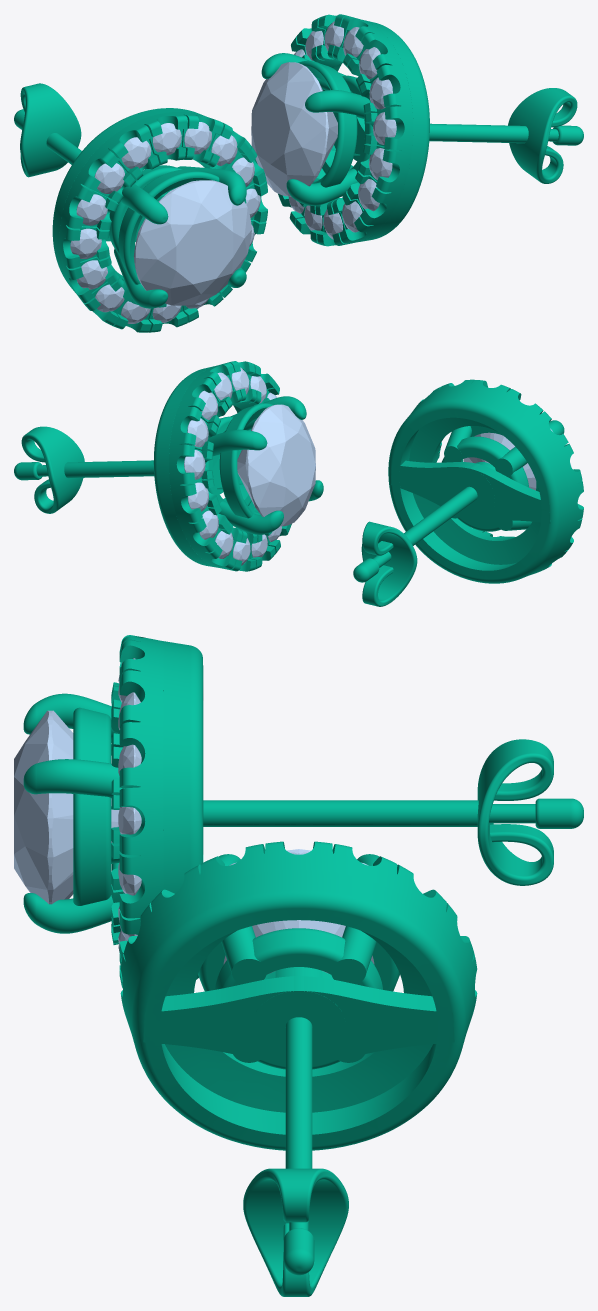
3 views of the same model, one above another, from view 1: azimuth 30°, elevation 25°; view 2: azimuth 150°, elevation 25°; view 3: azimuth 270°, elevation 25° (orthographic). The views are drawn at different scales.
Parts seen in each view (by area): view 1: VEAR057.3dm, Diamond_Round (×19), Head Prong (×6), Bezel (×4); view 2: VEAR057.3dm, Diamond_Round (×10), Bezel (×3), Head Prong (×5); view 3: VEAR057.3dm, Bezel (×3), Head Prong (×5), Diamond_Round (×2).
Part boxes in pixels (left/top/right/bottom): VEAR057.3dm: left=14, top=14, right=583, bottom=332; Diamond_Round (×19): left=70, top=27, right=396, bottom=323; Head Prong (×6): left=114, top=53, right=370, bottom=308; Bezel (×4): left=109, top=60, right=372, bottom=284; VEAR057.3dm: left=14, top=361, right=583, bottom=606; Diamond_Round (×10): left=184, top=372, right=536, bottom=565; Bezel (×3): left=205, top=403, right=528, bottom=531; Head Prong (×5): left=208, top=396, right=564, bottom=534; VEAR057.3dm: left=111, top=635, right=583, bottom=1296; Bezel (×3): left=73, top=707, right=399, bottom=1069; Head Prong (×5): left=23, top=693, right=379, bottom=984; Diamond_Round (×2): left=14, top=710, right=374, bottom=973.
Size of the model in its own units: 3.33 by 1.17 by 1.87.
